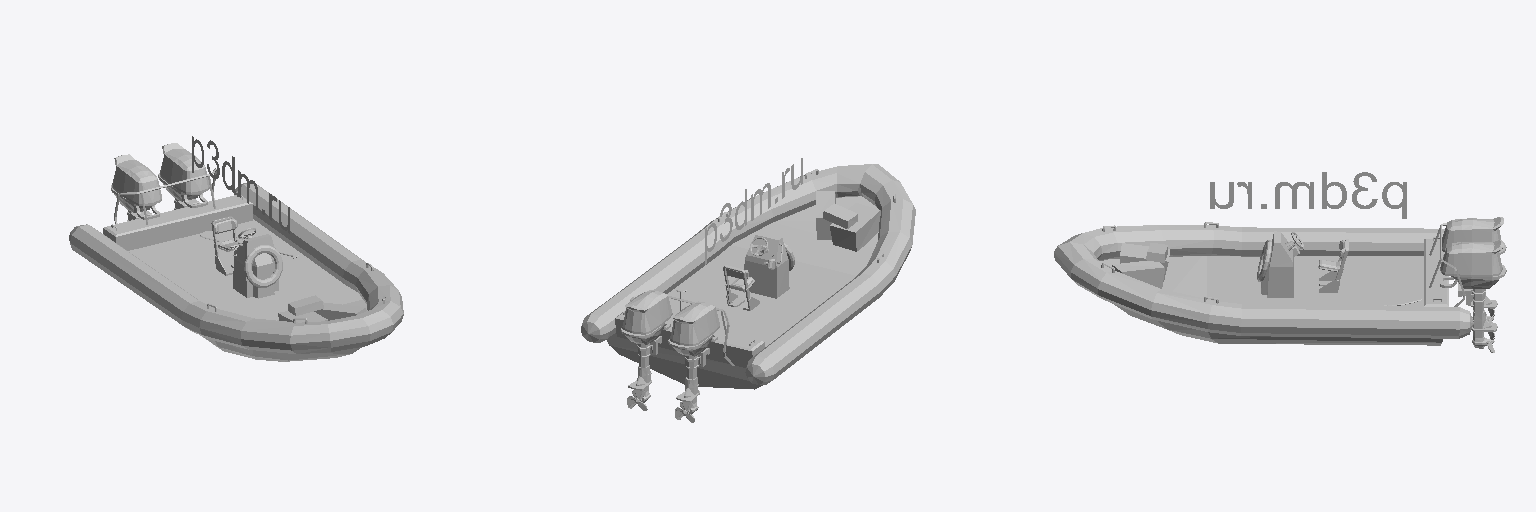
Rendered from p3dm.ru_Boat.obj.
3 renders of one model, left to right at view 1: azimuth 30°, elevation 25°; view 2: azimuth 150°, elevation 25°; view 3: azimuth 270°, elevation 25°, orthographic.
Visible parts, largest first — view 1: sm_vh_Boat_03_01, Text001; view 2: sm_vh_Boat_03_01, Text001; view 3: sm_vh_Boat_03_01, Text001.
Boxes of the visible parts, <box> form: sm_vh_Boat_03_01: <box>69,143,403,361</box>; Text001: <box>192,136,289,233</box>; sm_vh_Boat_03_01: <box>581,164,915,422</box>; Text001: <box>705,158,802,264</box>; sm_vh_Boat_03_01: <box>1054,217,1506,352</box>; Text001: <box>1210,172,1406,218</box>.
Bounding box in the file's own units: 108 × 89.12 × 219.